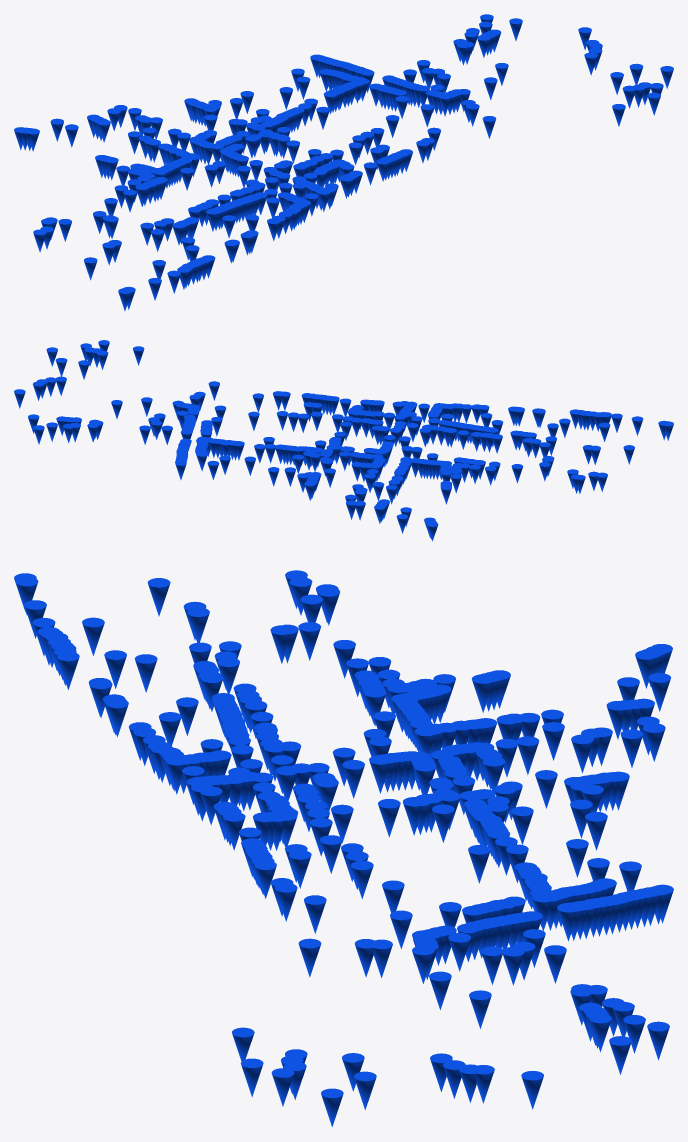
File: NIAH_Sites.fbx
3 views of the same model, one above another, from view 1: azimuth 30°, elevation 25°; view 2: azimuth 150°, elevation 25°; view 3: azimuth 270°, elevation 25° (orthographic). The views are drawn at different scales.
Bounding box in the file's own units: 1248 × 659 × 37.75.
